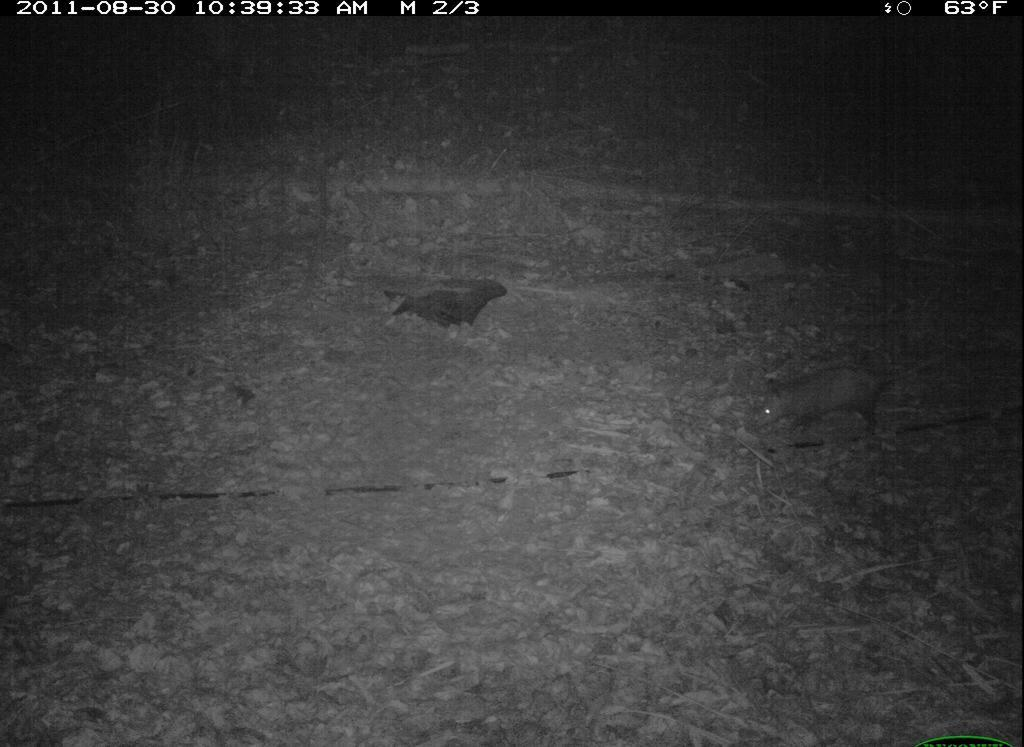opossum: (743, 349, 914, 447)
